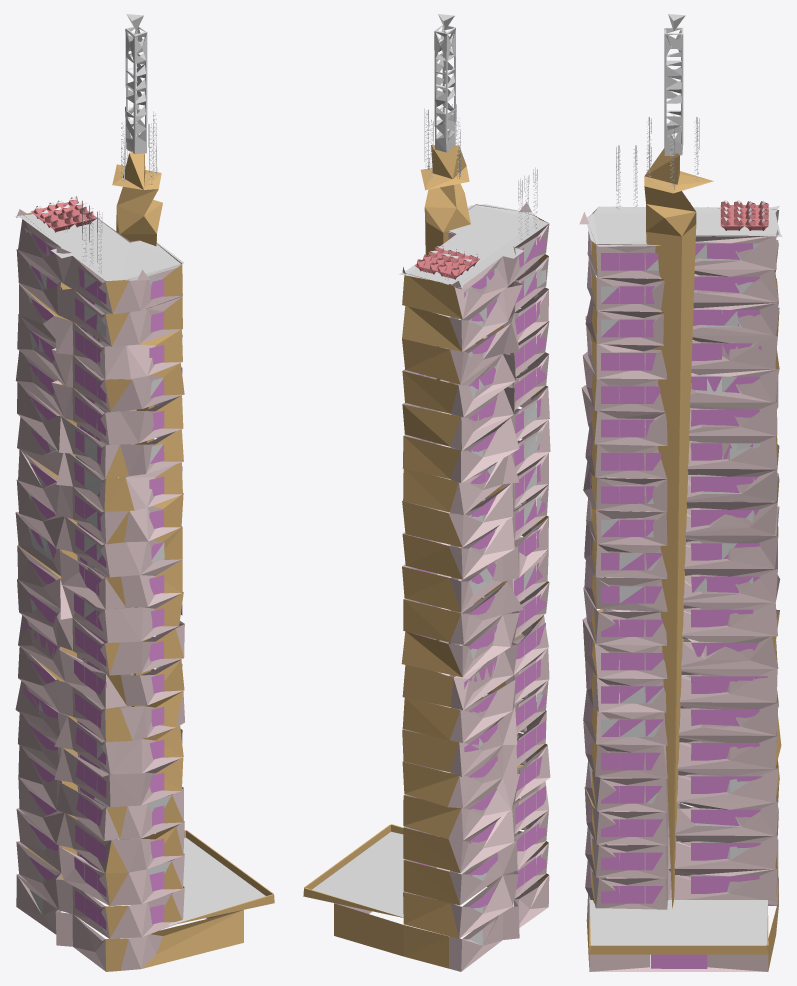
The model's file is skyscraper2_collider.fbx.
The picture shows the model from 3 angles, left to right: view 1: azimuth 30°, elevation 25°; view 2: azimuth 150°, elevation 25°; view 3: azimuth 270°, elevation 25°; orthographic projection. The views are drawn at different scales.
Visible parts, largest first — view 1: skyscraper2_collider; view 2: skyscraper2_collider; view 3: skyscraper2_collider.
Boxes of the visible parts, left/top/right/bottom form: skyscraper2_collider: left=14, top=14, right=274, bottom=971; skyscraper2_collider: left=303, top=14, right=550, bottom=971; skyscraper2_collider: left=579, top=14, right=782, bottom=971.
Bounding box in the file's own units: 2000 × 9996 × 1996.
